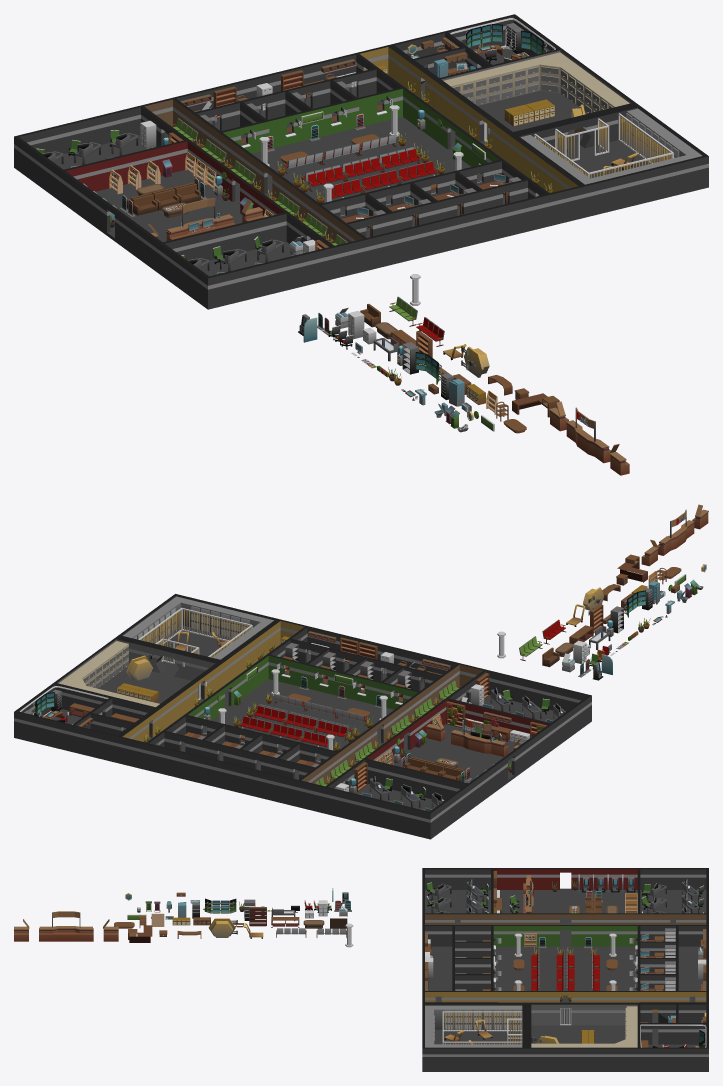
File: bank_gotov.fbx
3 renders of one model, top to bottom at view 1: azimuth 30°, elevation 25°; view 2: azimuth 150°, elevation 25°; view 3: azimuth 270°, elevation 25°, orthographic. The views are drawn at different scales.
Visible parts, largest first — view 1: Plane.001, Cube.072, Plane.004, recepszhen.001, Cube.164, recepszhen, Cube.153, Cylinder.027; view 2: Plane.001, Plane.004, Cube.072, Cube.164, recepszhen, recepszhen.001, Cube.153, Cylinder.027; view 3: Plane.001, Plane.004, recepszhen.001, Cube.164, Cube.072, Cube.153, seif_dwer.001, monitor_ohrany.002, Cylinder.027, ofis_stol_2.008, knig_polka, recepszhen.
Boxes of the visible parts, <box> form: Plane.001: <box>14,14,708,309</box>; Cube.072: <box>443,52,629,113</box>; Plane.004: <box>521,108,702,184</box>; recepszhen.001: <box>549,401,629,475</box>; Cube.164: <box>536,116,671,178</box>; recepszhen: <box>148,198,263,240</box>; Cube.153: <box>534,113,673,177</box>; Cylinder.027: <box>259,105,463,202</box>; Plane.001: <box>14,594,591,839</box>; Plane.004: <box>123,596,273,659</box>; Cube.072: <box>58,641,159,707</box>; Cube.164: <box>141,610,251,661</box>; recepszhen: <box>426,717,521,756</box>; recepszhen.001: <box>641,504,708,566</box>; Cube.153: <box>138,607,252,663</box>; Cylinder.027: <box>218,669,387,750</box>; Plane.001: <box>422,868,708,1071</box>; Plane.004: <box>425,1005,522,1047</box>; recepszhen.001: <box>14,911,118,941</box>; Cube.164: <box>445,1012,520,1044</box>; Cube.072: <box>531,1006,637,1047</box>; Cube.153: <box>442,1011,522,1044</box>; seif_dwer.001: <box>208,918,237,937</box>; monitor_ohrany.002: <box>205,898,236,913</box>; Cylinder.027: <box>514,933,616,990</box>; ofis_stol_2.008: <box>128,925,152,942</box>; knig_polka: <box>249,907,266,926</box>; recepszhen: <box>523,875,533,913</box>.
Bounding box in the file's own units: 4860 × 352 × 7901.
